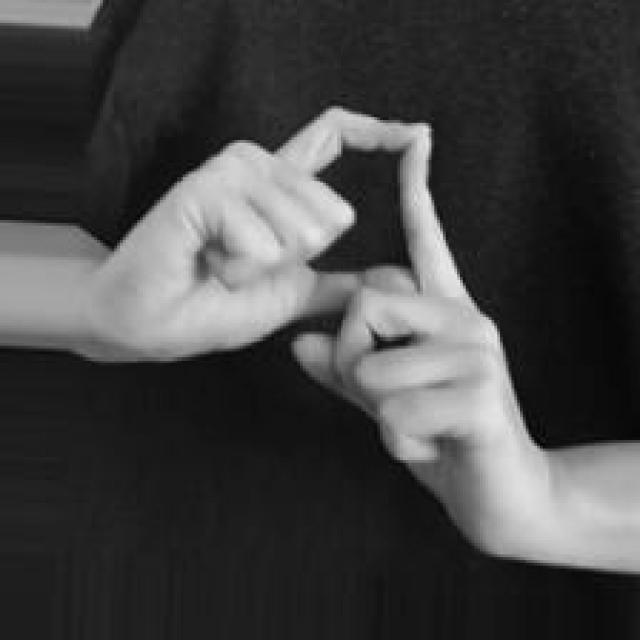D: (110, 107, 512, 555)
